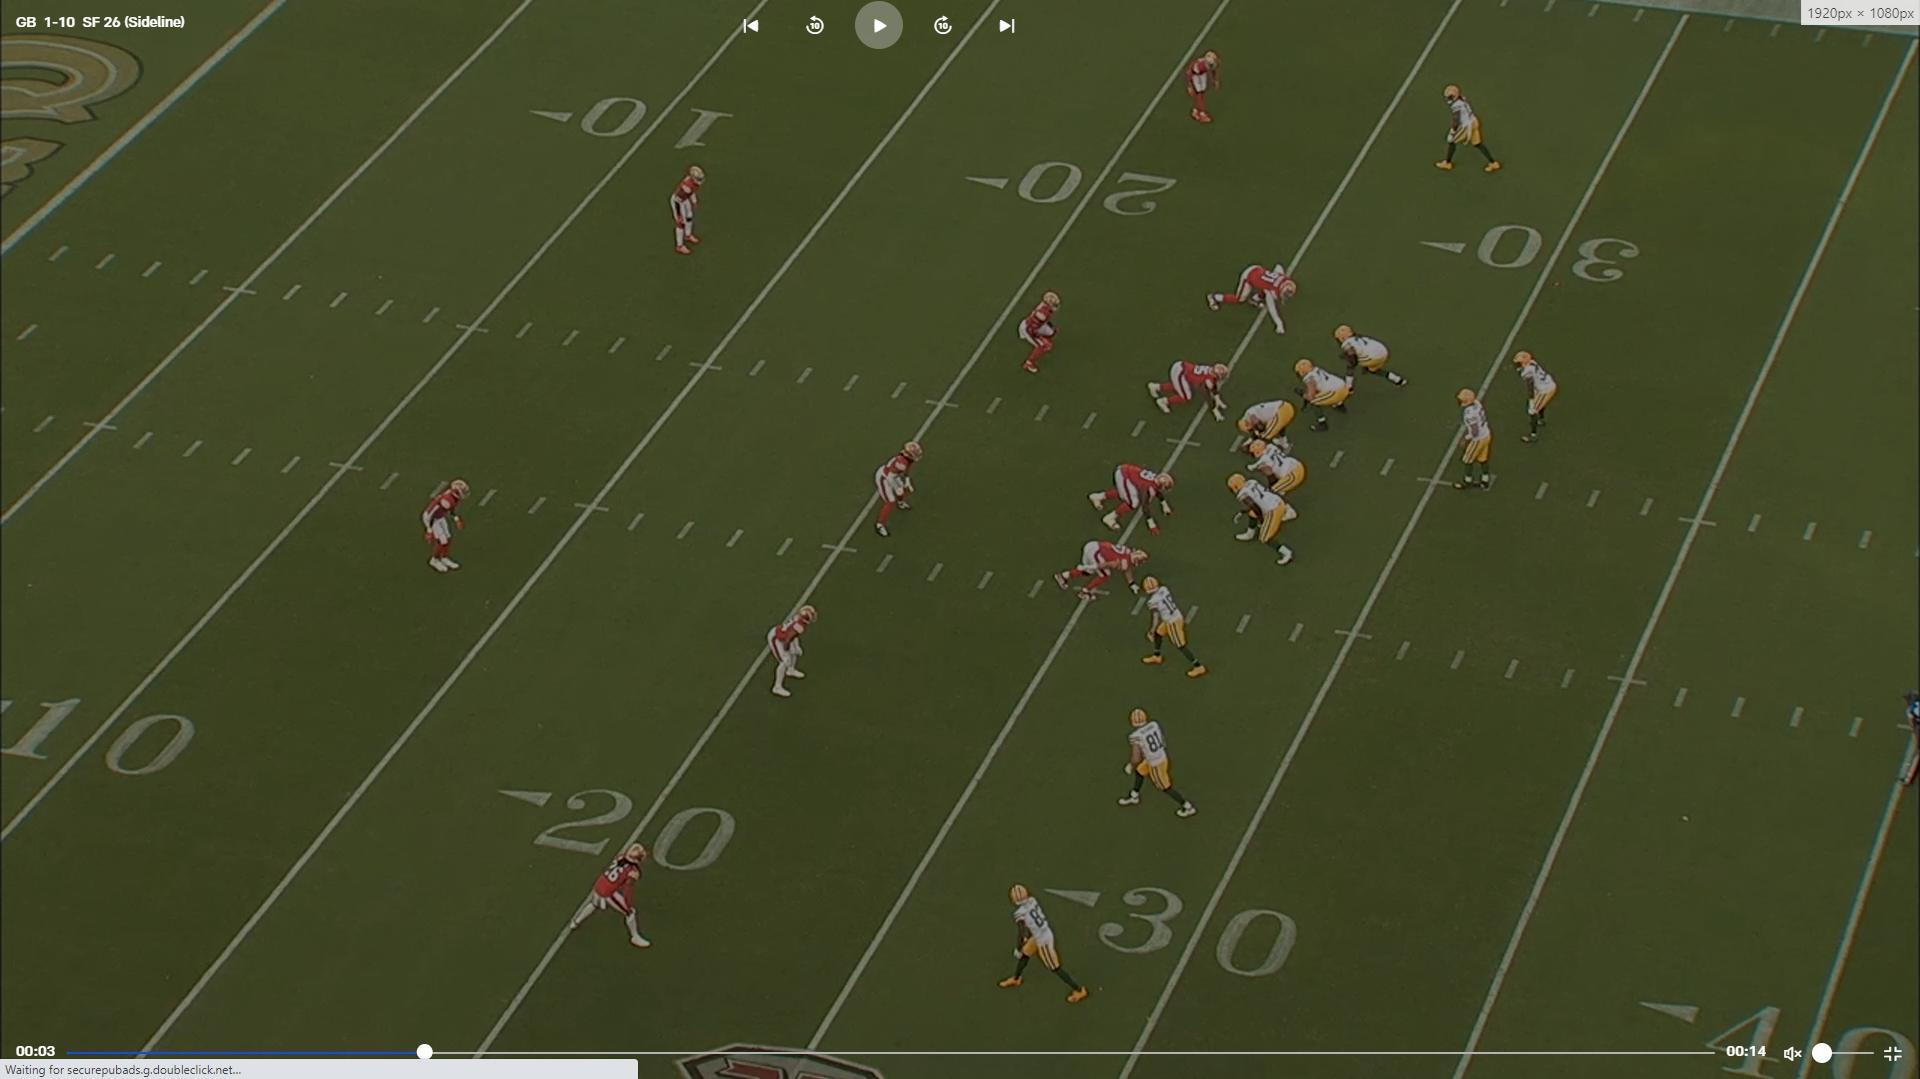defense: (564, 835, 651, 952), (1209, 261, 1300, 336), (1052, 537, 1151, 604), (1092, 460, 1182, 533), (769, 601, 824, 704), (421, 476, 472, 580), (869, 438, 922, 539), (1151, 357, 1232, 423), (1022, 286, 1067, 376), (666, 160, 705, 257), (1180, 45, 1221, 131)
oline: (1229, 474, 1302, 571), (1336, 323, 1410, 393), (1249, 439, 1308, 525), (1296, 360, 1358, 437), (1238, 397, 1296, 450)
qb: (1451, 386, 1499, 495)
ref: (1898, 683, 1920, 799)
skill: (1001, 880, 1095, 1012), (1121, 704, 1201, 827), (1133, 575, 1203, 687), (1437, 78, 1507, 178), (1510, 350, 1557, 454)
